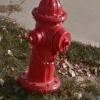Hydrant: (22, 0, 72, 91)
